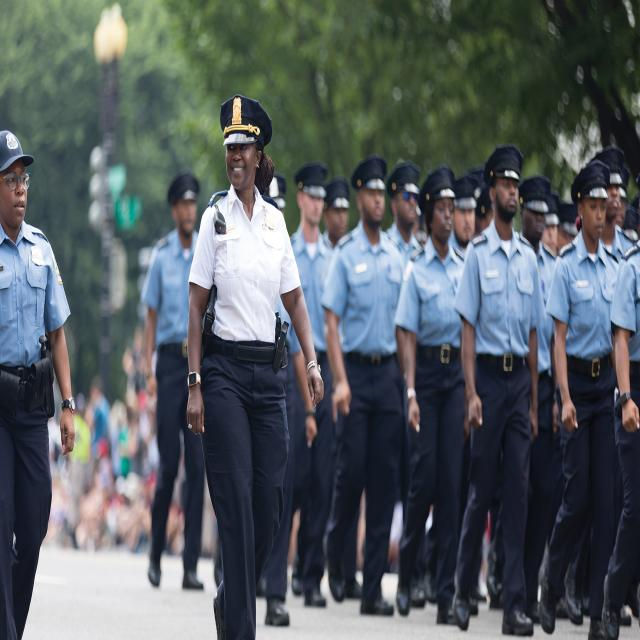police: (172, 61, 320, 640), (328, 129, 474, 640), (549, 145, 640, 640), (0, 126, 86, 640), (471, 156, 554, 640)
